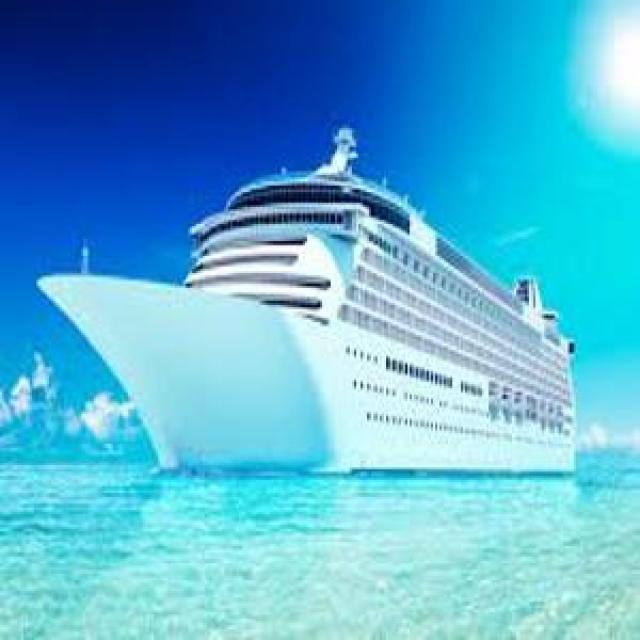passenger ship: (27, 123, 579, 473)
